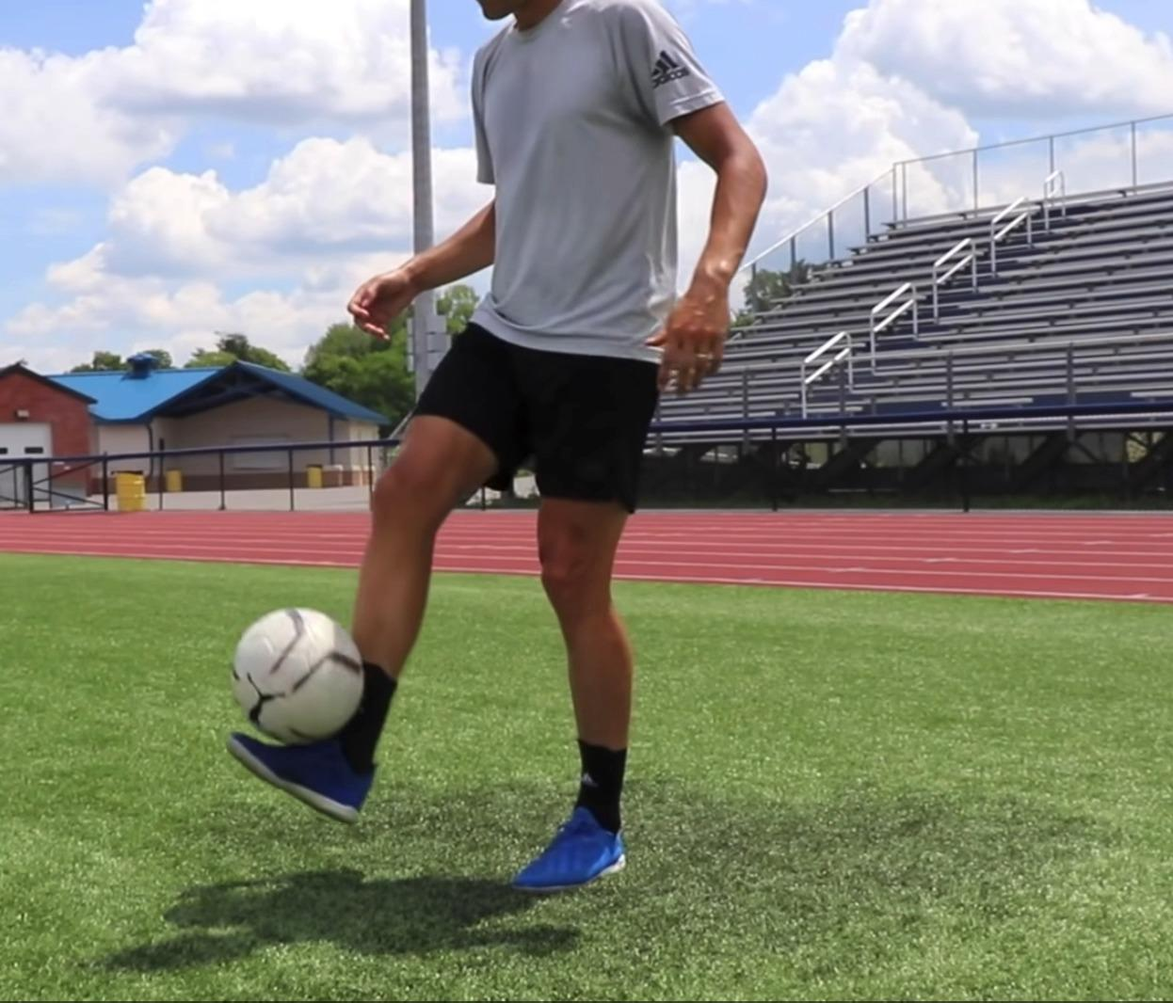ball: (230, 604, 362, 740)
foot: (230, 730, 372, 826), (514, 808, 624, 889)
person: (229, 0, 768, 892)
